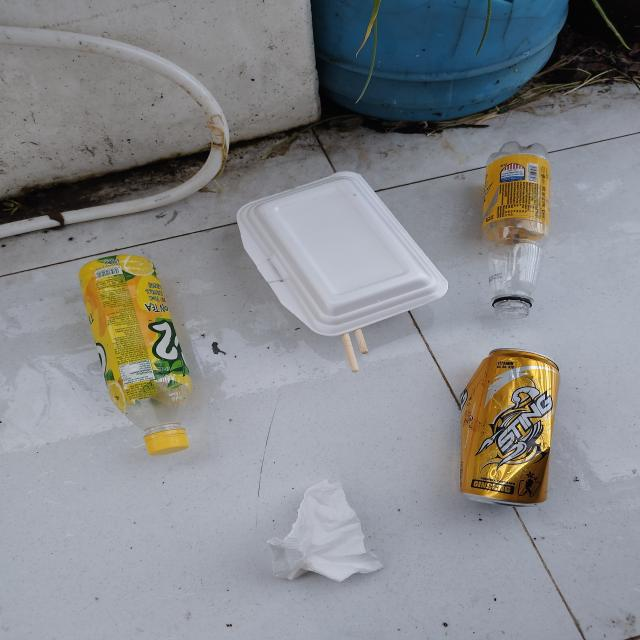bottle: (81, 253, 193, 456), (482, 140, 552, 320)
can: (462, 347, 560, 508)
foam box: (237, 169, 451, 336)
napkin: (267, 477, 386, 585)
